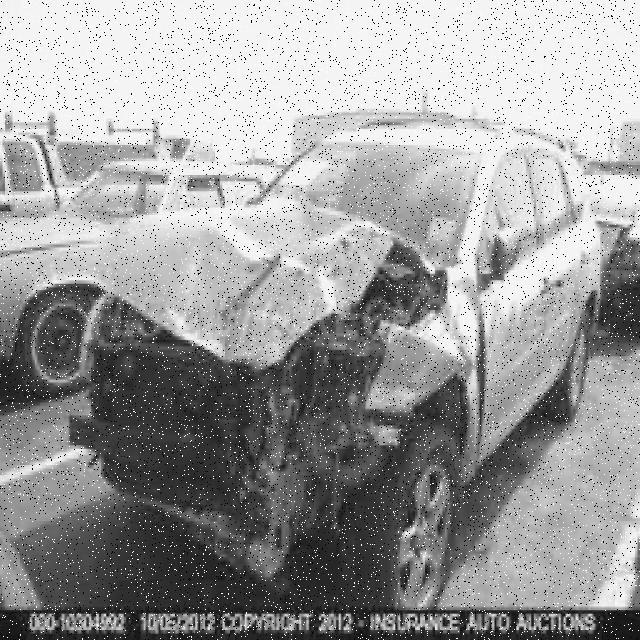car damage: (62, 200, 482, 598)
